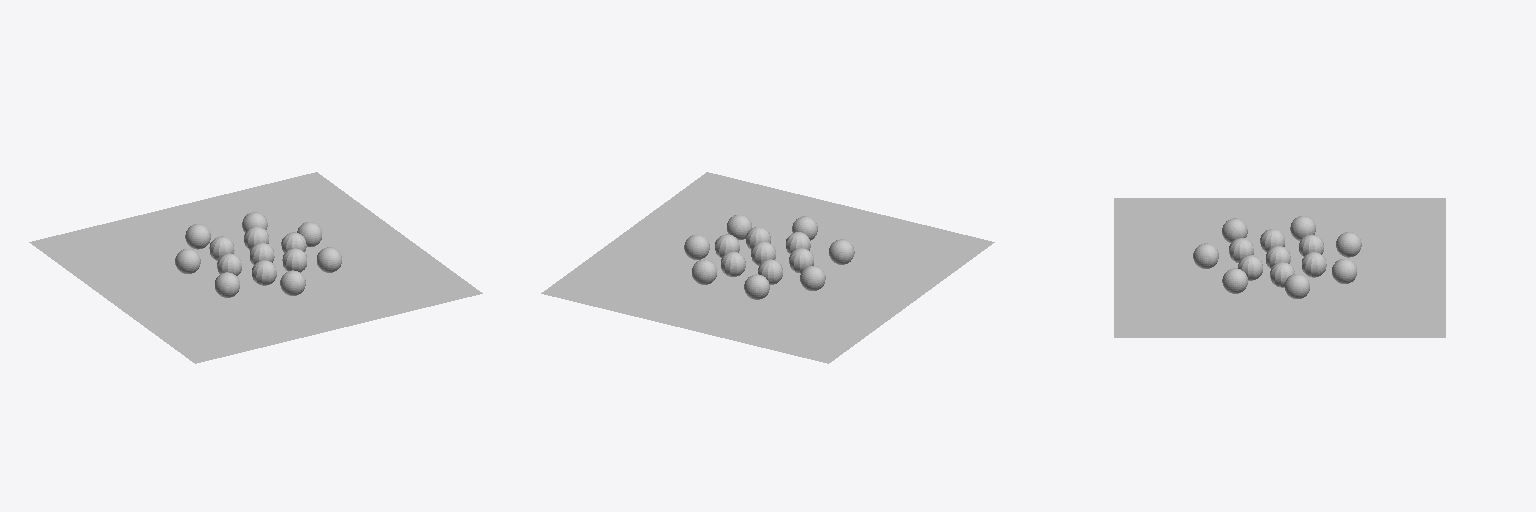
The model's file is colorful-balls.obj.
3 renders of one model, left to right at view 1: azimuth 30°, elevation 25°; view 2: azimuth 150°, elevation 25°; view 3: azimuth 270°, elevation 25°, orthographic.
Parts seen in each view (by area): view 1: Plane.002; view 2: Plane.002; view 3: Plane.002.
Part boxes in pixels (x1,y1,x2,y2): Plane.002: (29, 172, 482, 363); Plane.002: (541, 172, 994, 363); Plane.002: (1114, 198, 1445, 337).
Size of the model in its own units: 19.37 by 1.54 by 19.37.